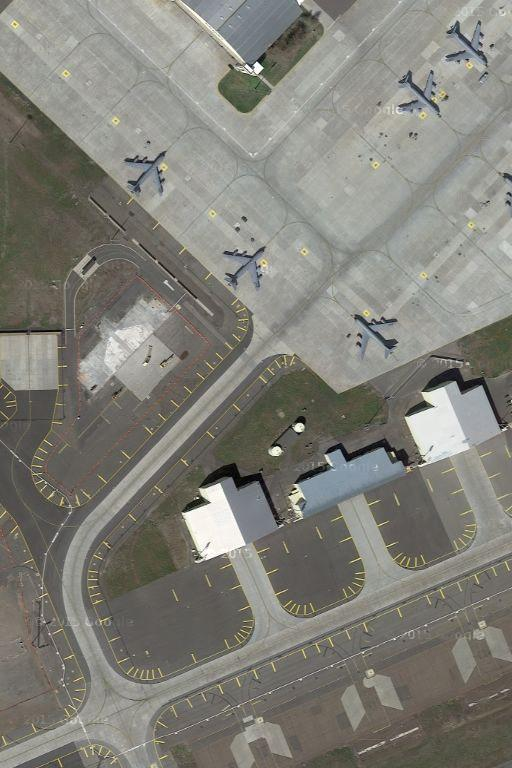KC-135: (395, 68, 448, 121), (444, 18, 493, 74), (351, 311, 401, 363), (120, 149, 170, 200), (221, 245, 267, 294)
